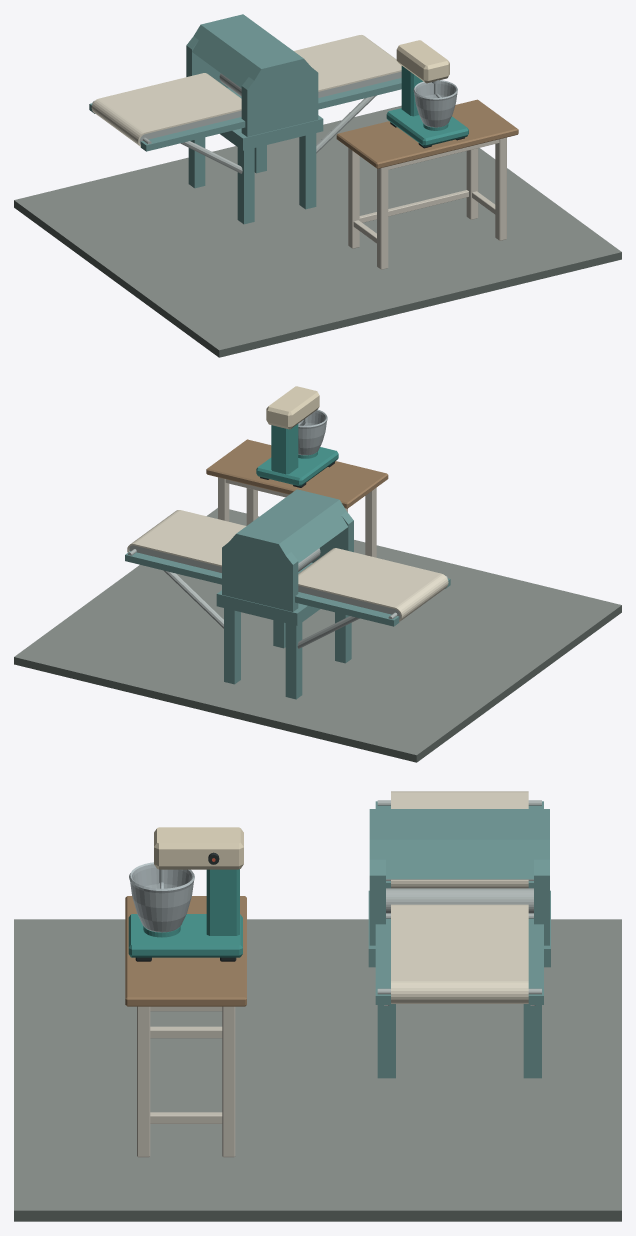
The picture shows the model from 3 angles, top to bottom: view 1: azimuth 30°, elevation 25°; view 2: azimuth 150°, elevation 25°; view 3: azimuth 270°, elevation 25°; orthographic projection. The views are drawn at different scales.
Parts seen in each view (by area): view 1: SCENE_ONLY__DisplayFloor, sheeter__WholeContinuousReturnWingBelt_-1, sheeter__WholeContinuousArchedTopHeadCover, table__Complete work surface, sheeter__WholeThickRollHeadCheek_-1, sheeter__WholeContinuousReturnWingBelt_1, mixer__OpenMixingBowl, mixer__MotorHead, mixer__MixerBase, sheeter__WholeCentralMachineBase, sheeter__WholeGroundLeg_1_-1, sheeter__WholeGroundLeg_-1_-1 (+14 smaller); view 2: SCENE_ONLY__DisplayFloor, sheeter__WholeContinuousReturnWingBelt_-1, sheeter__WholeContinuousArchedTopHeadCover, sheeter__WholeThickRollHeadCheek_1, table__Complete work surface, sheeter__WholeContinuousReturnWingBelt_1, mixer__MotorHead, sheeter__WholeCentralMachineBase, mixer__MixerBase, sheeter__WholeGroundLeg_-1_1, mixer__RearColumn, sheeter__WholeGroundLeg_1_1 (+9 smaller); view 3: SCENE_ONLY__DisplayFloor, sheeter__WholeContinuousReturnWingBelt_1, sheeter__WholeContinuousArchedTopHeadCover, table__Complete work surface, sheeter__WholeContinuousReturnWingBelt_-1, mixer__MotorHead, mixer__MixerBase, mixer__OpenMixingBowl, sheeter__WholeWideCentralLowerRoll, mixer__RearColumn, table__Worktable leg.003, table__Worktable leg.002 (+8 smaller).
Part boxes in pixels (x1,y1,x2,y2): SCENE_ONLY__DisplayFloor: (14, 105, 621, 357); sheeter__WholeContinuousReturnWingBelt_-1: (91, 73, 241, 146); sheeter__WholeContinuousArchedTopHeadCover: (192, 14, 317, 92); table__Complete work surface: (336, 99, 518, 168); sheeter__WholeThickRollHeadCheek_-1: (241, 64, 318, 136); sheeter__WholeContinuousReturnWingBelt_1: (294, 35, 401, 91); mixer__OpenMixingBowl: (413, 80, 457, 127); mixer__MotorHead: (396, 40, 449, 83); mixer__MixerBase: (386, 108, 468, 146); sheeter__WholeCentralMachineBase: (220, 87, 323, 150); sheeter__WholeGroundLeg_1_-1: (299, 133, 316, 209); sheeter__WholeGroundLeg_-1_-1: (237, 147, 254, 224); SCENE_ONLY__DisplayFloor: (14, 508, 621, 762); sheeter__WholeContinuousReturnWingBelt_-1: (298, 548, 448, 621); sheeter__WholeContinuousArchedTopHeadCover: (222, 489, 347, 567); sheeter__WholeThickRollHeadCheek_1: (222, 535, 298, 611); table__Complete work surface: (206, 439, 388, 508); sheeter__WholeContinuousReturnWingBelt_1: (127, 510, 246, 566); mixer__MotorHead: (266, 386, 319, 429); sheeter__WholeCentralMachineBase: (216, 562, 320, 625); mixer__MixerBase: (256, 447, 338, 486); sheeter__WholeGroundLeg_-1_1: (285, 622, 302, 699); mixer__RearColumn: (271, 424, 298, 474); sheeter__WholeGroundLeg_1_1: (224, 608, 240, 684); SCENE_ONLY__DisplayFloor: (14, 919, 621, 1221); sheeter__WholeContinuousReturnWingBelt_1: (391, 904, 528, 1003); sheeter__WholeContinuousArchedTopHeadCover: (369, 809, 549, 879); table__Complete work surface: (125, 896, 246, 1006); sheeter__WholeContinuousReturnWingBelt_-1: (391, 791, 528, 888); mixer__MotorHead: (154, 827, 243, 869); mixer__MixerBase: (128, 914, 242, 957); mixer__OpenMixingBowl: (129, 862, 194, 932); sheeter__WholeWideCentralLowerRoll: (386, 888, 533, 913); mixer__RearColumn: (206, 869, 239, 935); table__Worktable leg.003: (222, 1006, 235, 1157); table__Worktable leg.002: (137, 1006, 150, 1157).
Size of the model in its own units: 3.4 by 1.57 by 3.
